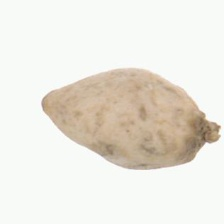L1: (197, 108, 221, 157), (41, 86, 54, 121)
L2: (42, 67, 220, 170)
